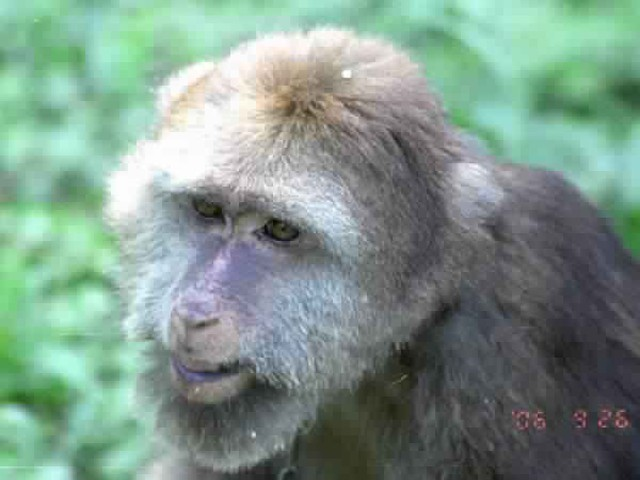Monkey: (97, 24, 640, 479)
